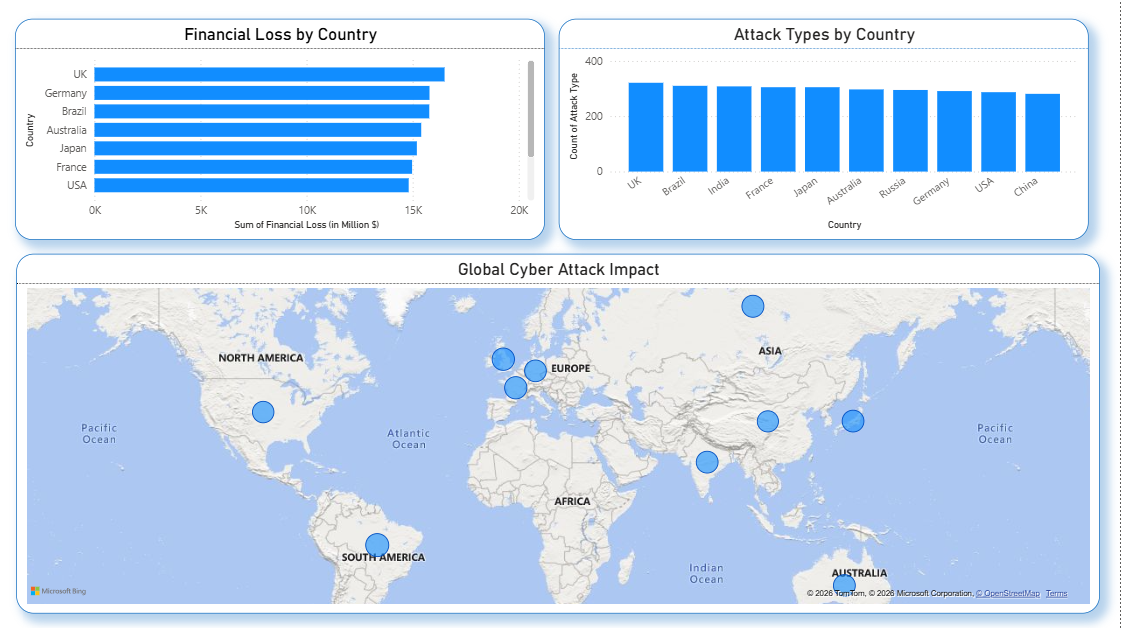

This screenshot's page, from the dashboard's own definition file:
{"tool":"powerbi","page":{"name":"Page 2","canvas":[1280,720],"ordinal":1},"visuals":[{"type":"map","title":"Global Cyber Attack Impact","fields":{"Category":["Global_Cybersecurity_Threats_2015-2024.Country"],"Size":["Sum(Global_Cybersecurity_Threats_2015-2024.Number of Affected Users)"]},"box":[18.6,290,1238.6,411.4],"z":0},{"type":"clusteredBarChart","title":"Financial Loss by Country ","fields":{"Y":["Sum(Global_Cybersecurity_Threats_2015-2024.Financial Loss (in Million $))"],"Category":["Global_Cybersecurity_Threats_2015-2024.Country"]},"box":[17.1,21.4,605.7,252.9],"z":1},{"type":"columnChart","title":"Attack Types by Country","fields":{"Y":["CountNonNull(Global_Cybersecurity_Threats_2015-2024.Attack Type)"],"Category":["Global_Cybersecurity_Threats_2015-2024.Country"]},"box":[638.6,21.4,605.7,252.9],"z":2}]}

Visuals, with their boxes in screenshot pixels (x1, y1, x2, y2), scaled from the page's 1280x720 canvas onto the 1121x628 screenshot:
"Global Cyber Attack Impact" map: (16,253,1101,612)
"Financial Loss by Country " clusteredBarChart: (15,19,545,239)
"Attack Types by Country" columnChart: (559,19,1090,239)
